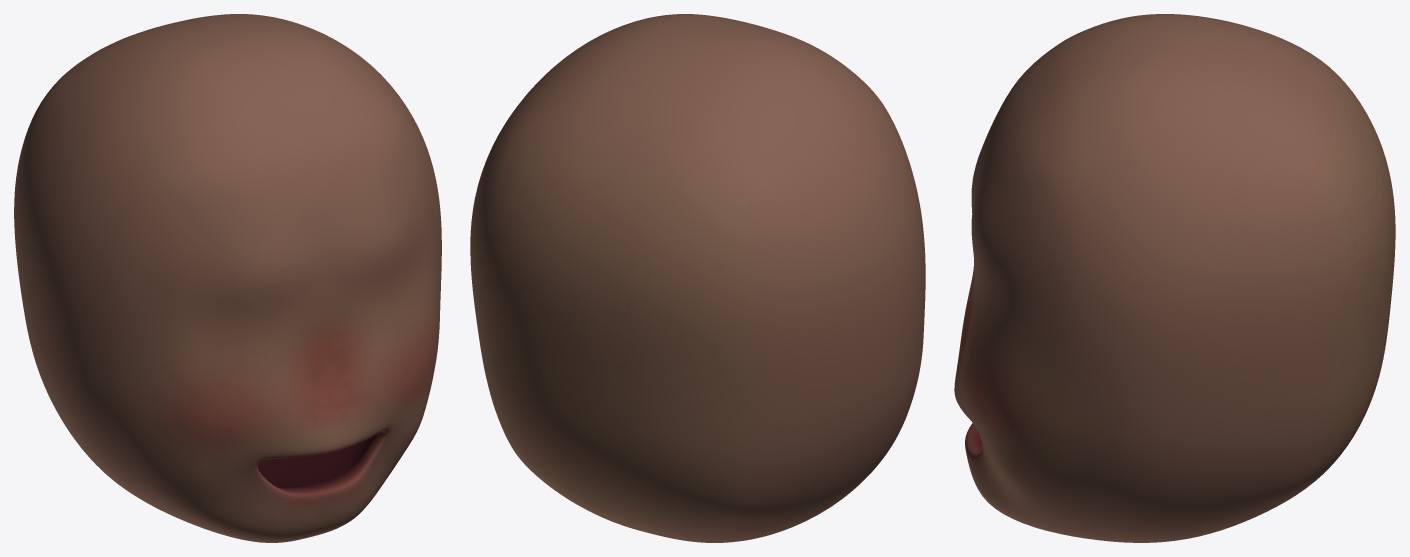
File: head8.glb
3 views of the same model, side by side, from view 1: azimuth 30°, elevation 25°; view 2: azimuth 150°, elevation 25°; view 3: azimuth 270°, elevation 25° (orthographic). The views are drawn at different scales.
Visible parts, largest first — view 1: head.008; view 2: head.008; view 3: head.008.
Part boxes in pixels (x1,y1,x2,y2): head.008: (14, 14, 441, 542); head.008: (470, 14, 925, 542); head.008: (954, 14, 1395, 542).
Bounding box in the file's own units: 1.35 × 1.62 × 1.34.
1 material, 1 textured.
